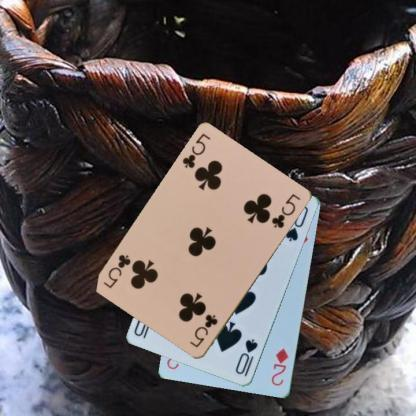10s: (233, 336, 259, 378)
2d: (269, 346, 290, 388)
5c: (180, 131, 212, 171), (186, 312, 219, 350)
